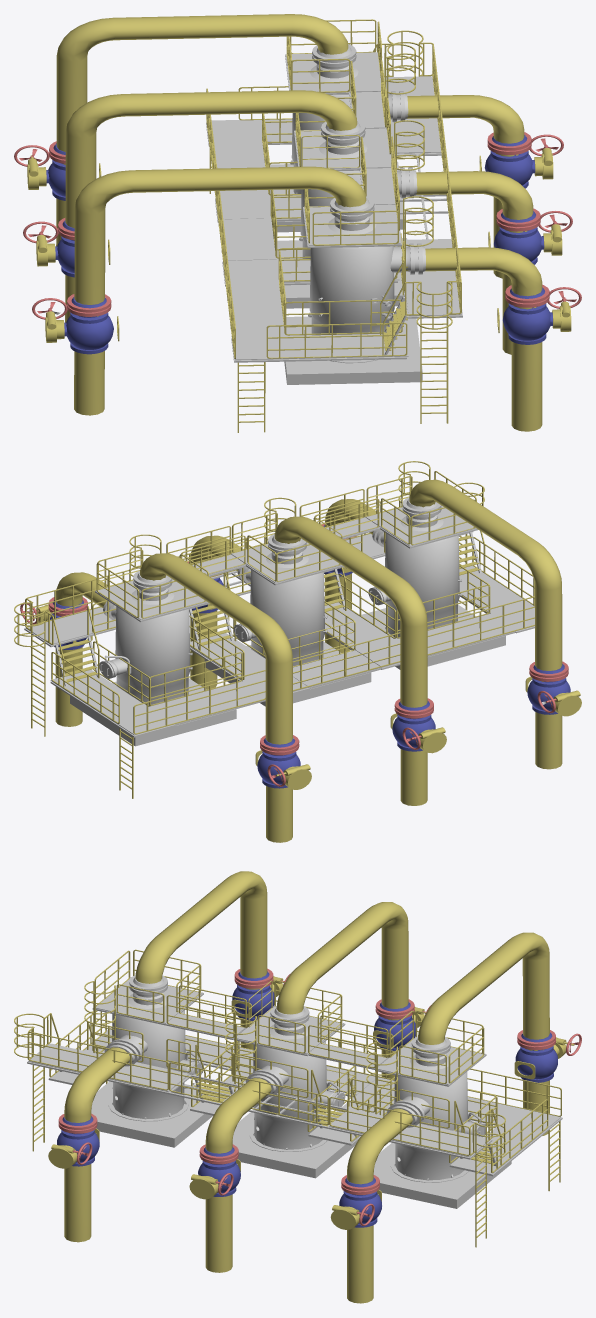
File: dire2.gltf
3 views of the same model, one above another, from view 1: azimuth 30°, elevation 25°; view 2: azimuth 150°, elevation 25°; view 3: azimuth 270°, elevation 25° (orthographic). The views are drawn at different scales.
Parts seen in each view (by area): view 1: Obj3d66-513922-2-224; view 2: Obj3d66-513922-2-224; view 3: Obj3d66-513922-2-224.
Part boxes in pixels (bbox=[...]): Obj3d66-513922-2-224: bbox=[14, 14, 581, 432]; Obj3d66-513922-2-224: bbox=[14, 461, 581, 842]; Obj3d66-513922-2-224: bbox=[14, 871, 581, 1303].
Bounding box in the file's own units: 90.87 × 39.42 × 88.46.
